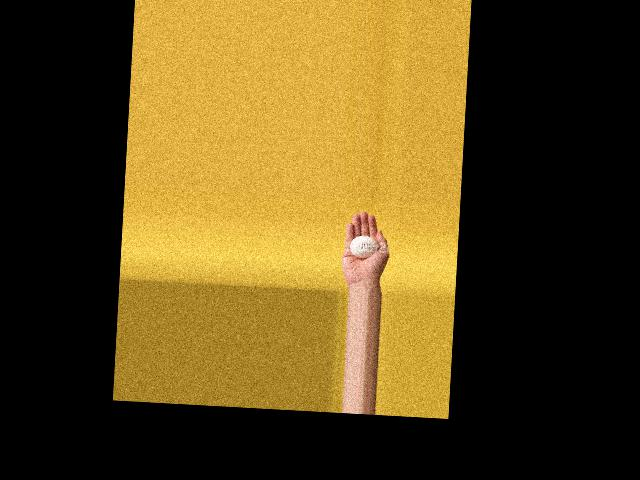egg: (349, 235, 379, 258)
